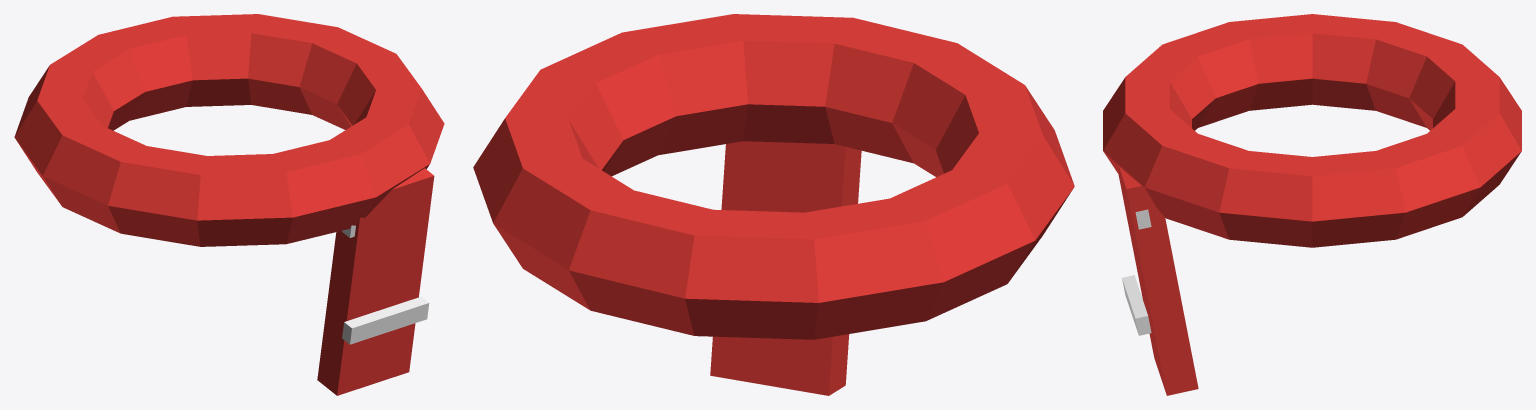
The model's file is scarf_red.glb.
The picture shows the model from 3 angles, left to right: view 1: azimuth 30°, elevation 25°; view 2: azimuth 150°, elevation 25°; view 3: azimuth 270°, elevation 25°; orthographic projection. The views are drawn at different scales.
Visible parts, largest first — view 1: scarf_red; view 2: scarf_red; view 3: scarf_red.
Part boxes in pixels (x1=…): scarf_red: x1=14, y1=14, x2=444, y2=395; scarf_red: x1=473, y1=14, x2=1074, y2=395; scarf_red: x1=1103, y1=14, x2=1521, y2=395.
Size of the model in its own units: 0.66 by 0.4222 by 0.6435.
